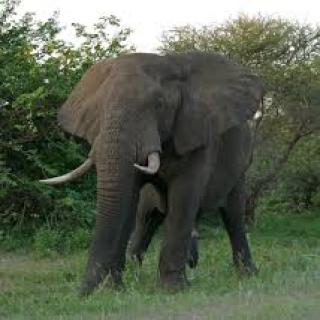Elephant: (35, 48, 266, 294)
